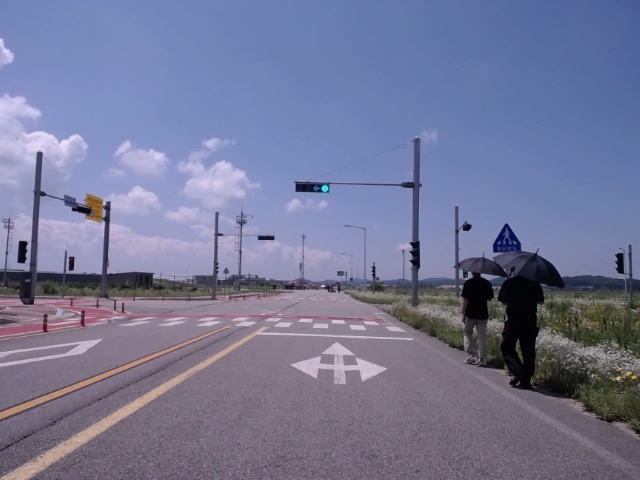all_green_4: (297, 180, 331, 194)
